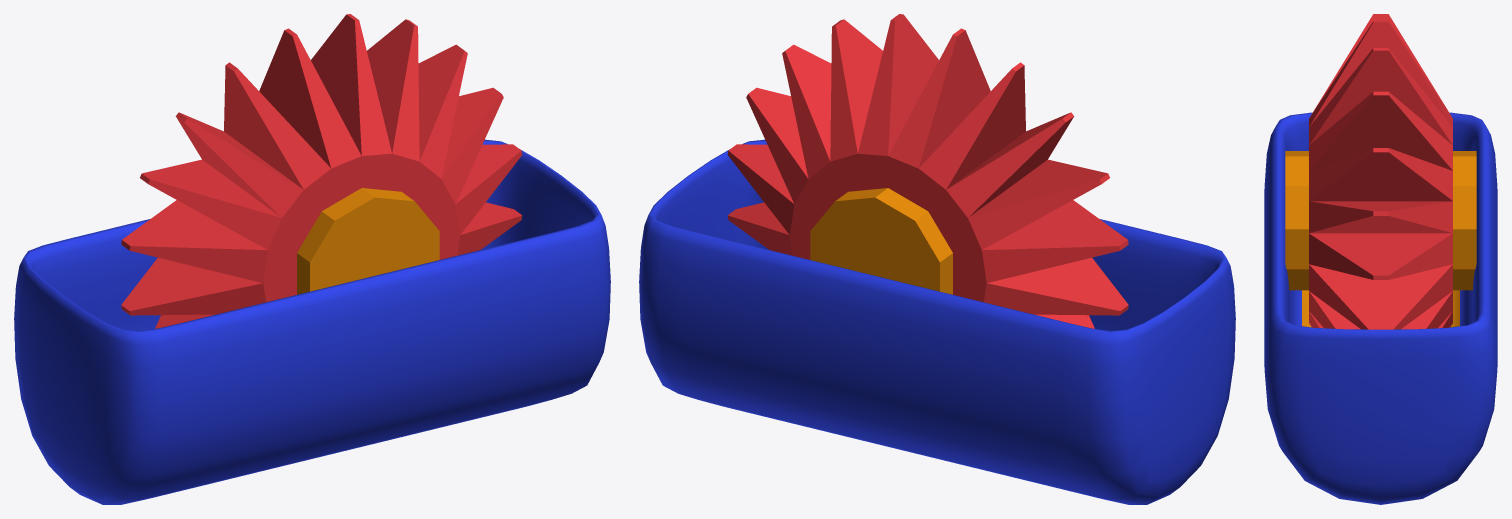
Rendered from engel14.fbx.
3 renders of one model, left to right at view 1: azimuth 30°, elevation 25°; view 2: azimuth 150°, elevation 25°; view 3: azimuth 270°, elevation 25°, orthographic. The views are drawn at different scales.
Visible parts, largest first — view 1: Cube.005, Cylinder.012; view 2: Cube.005, Cylinder.012; view 3: Cube.005, Cylinder.012.
Part boxes in pixels (left/top/right/bottom): Cube.005: left=14, top=139, right=610, bottom=504; Cylinder.012: left=121, top=14, right=522, bottom=328; Cube.005: left=639, top=139, right=1235, bottom=504; Cylinder.012: left=727, top=14, right=1128, bottom=328; Cube.005: left=1264, top=112, right=1497, bottom=504; Cylinder.012: left=1285, top=14, right=1476, bottom=329.
Size of the model in its own units: 149 by 117 by 65.81.
